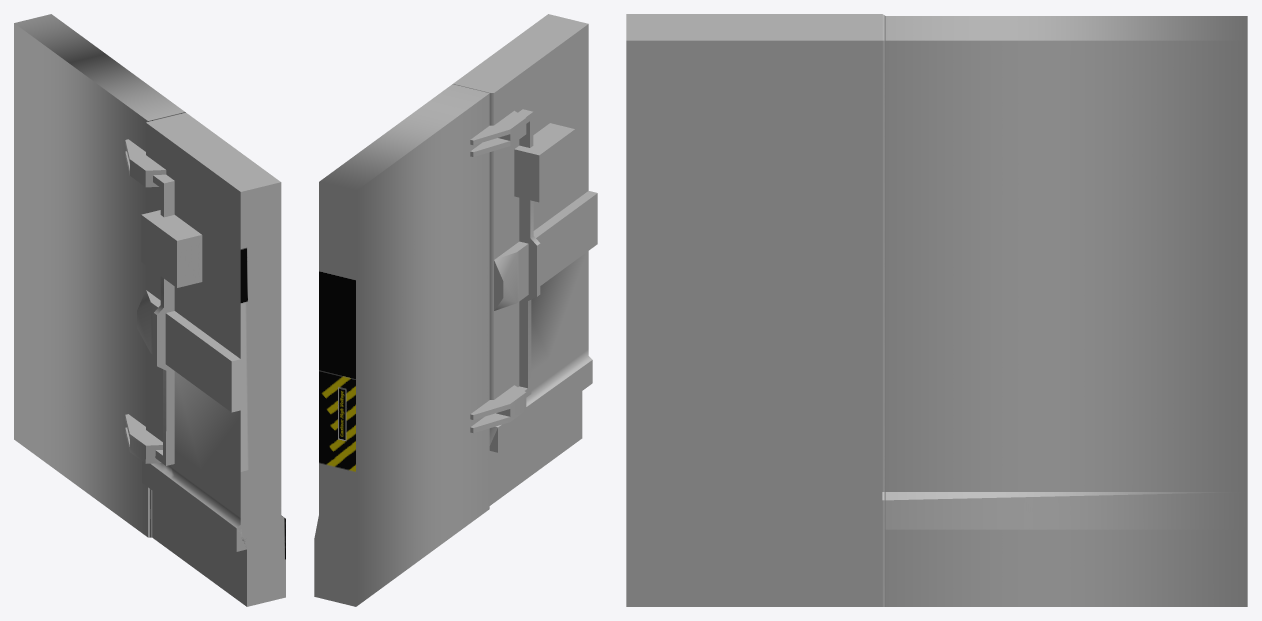
Rendered from shield_generator.fbx.
3 views of the same model, side by side, from view 1: azimuth 30°, elevation 25°; view 2: azimuth 150°, elevation 25°; view 3: azimuth 270°, elevation 25° (orthographic). The views are drawn at different scales.
Visible parts, largest first — view 1: shield_genny; view 2: shield_genny; view 3: shield_genny.
Part boxes in pixels (<box>): shield_genny: <box>14,14,285,606</box>; shield_genny: <box>314,14,597,606</box>; shield_genny: <box>626,14,1247,606</box>.
Bounding box in the file's own units: 176 × 1000 × 1000.
